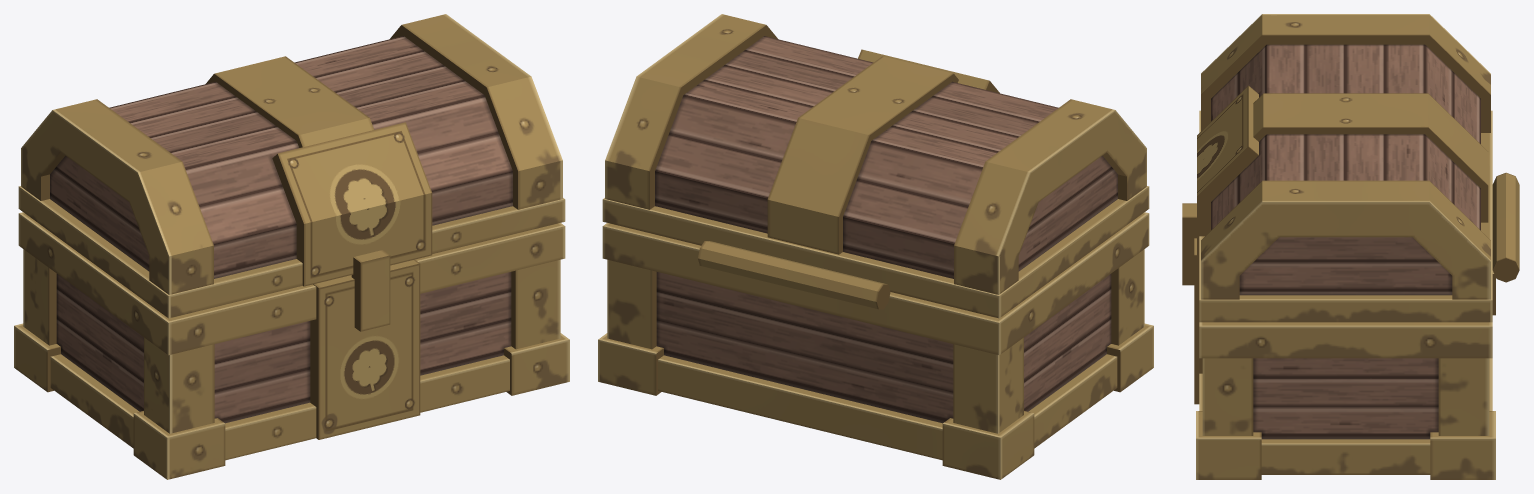
Rendered from chest_luck-D30P4FFE.glb.
The picture shows the model from 3 angles, left to right: view 1: azimuth 30°, elevation 25°; view 2: azimuth 150°, elevation 25°; view 3: azimuth 270°, elevation 25°; orthographic projection. The views are drawn at different scales.
Parts seen in each view (by area): view 1: lid_mesh, chest_luck; view 2: lid_mesh, chest_luck; view 3: lid_mesh, chest_luck.
Part boxes in pixels (x1=…): lid_mesh: x1=18, y1=14, x2=565, y2=331; chest_luck: x1=14, y1=212, x2=569, y2=479; lid_mesh: x1=602, y1=14, x2=1149, y2=318; chest_luck: x1=598, y1=212, x2=1153, y2=479; lid_mesh: x1=1182, y1=14, x2=1492, y2=322; chest_luck: x1=1194, y1=172, x2=1519, y2=479.
Bounding box in the file's own units: 1.35 × 0.902 × 1.
2 materials, 2 textured.
